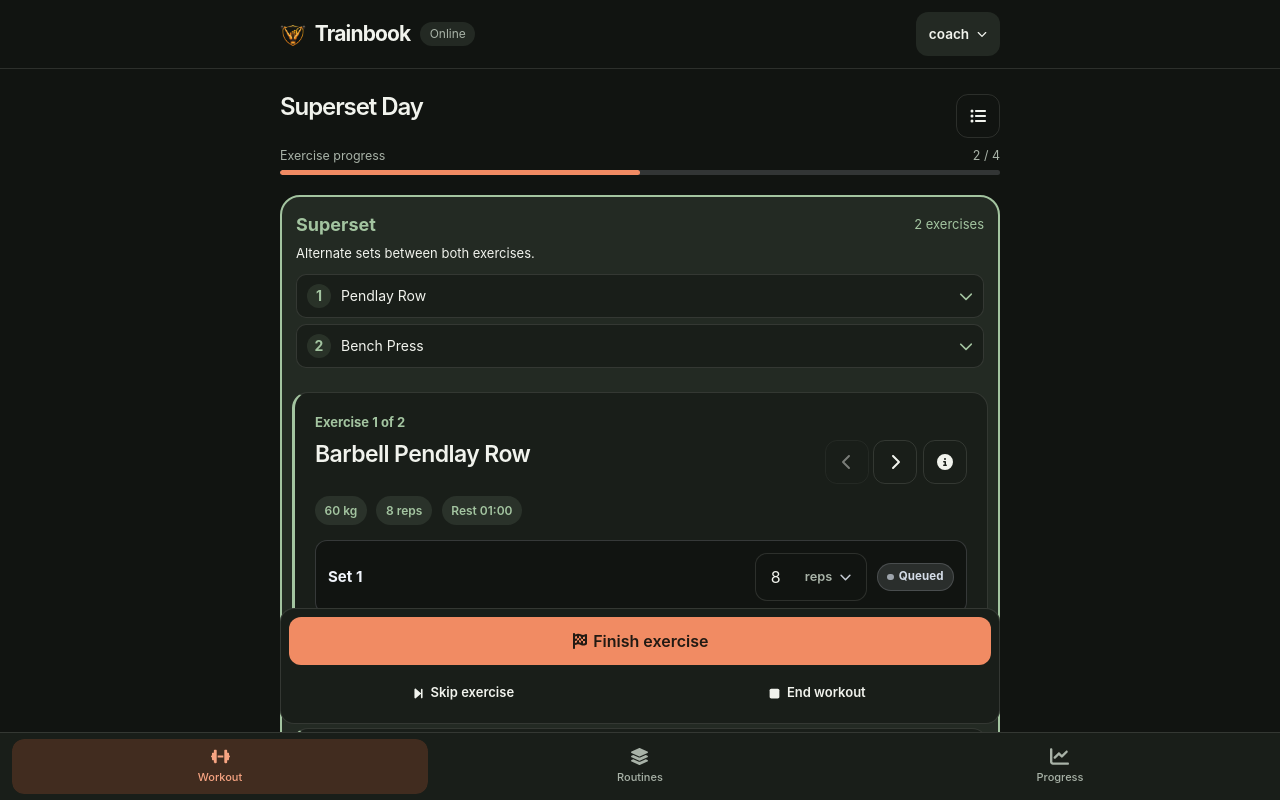
Test: App UI flows › disables exercise nav buttons at superset start and end boundaries
The image size is (1280, 800).
Expected: the button named "Previous exercise" is disabled, left=825, top=440, right=869, bottom=484
Click the button named "Next exercise" at (895, 462), box left=873, top=440, right=917, bottom=484
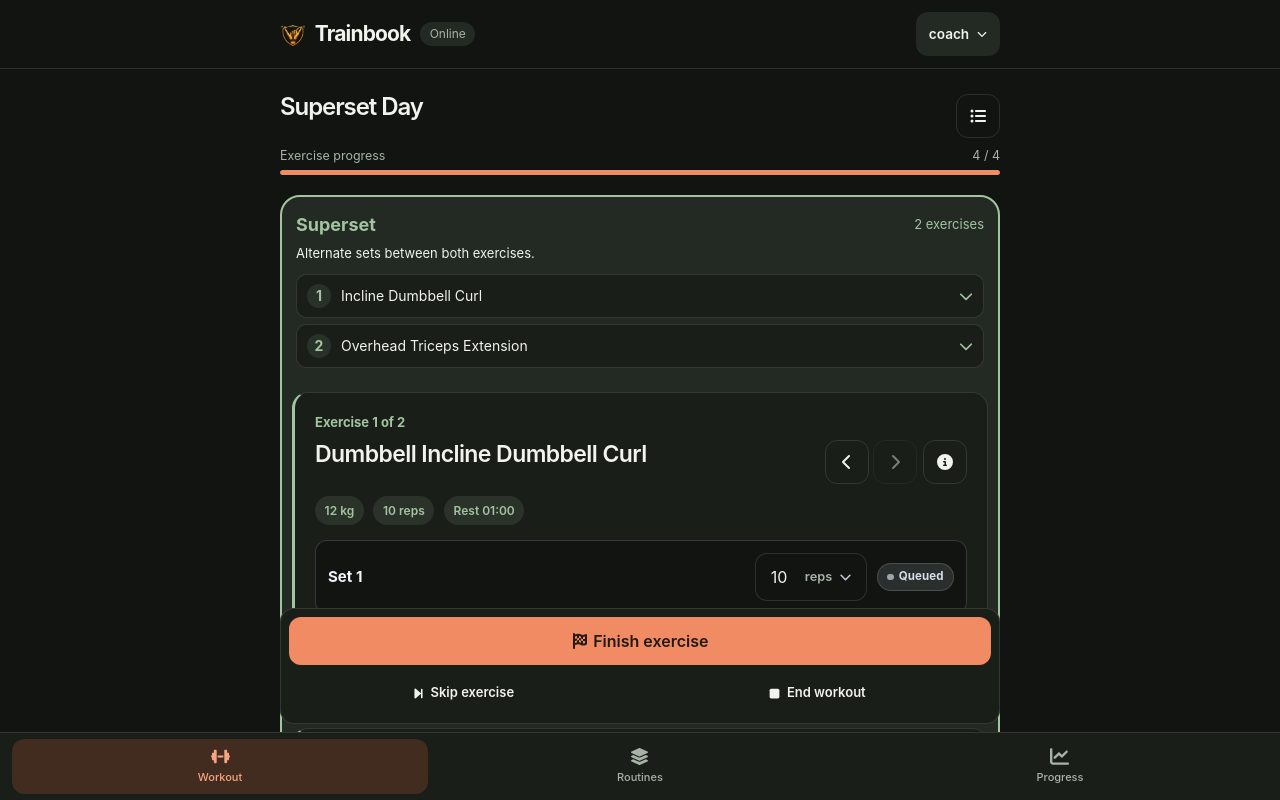
Expected: the text "Dumbbell Incline Dumbbell Curl" is shown, left=315, top=440, right=647, bottom=469
Expected: the button named "Next exercise" is disabled, left=873, top=440, right=917, bottom=484
